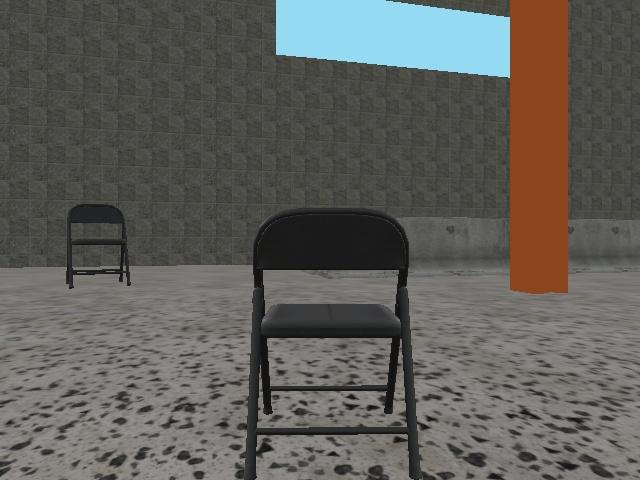chair: (241, 205, 425, 480), (63, 201, 136, 290)
